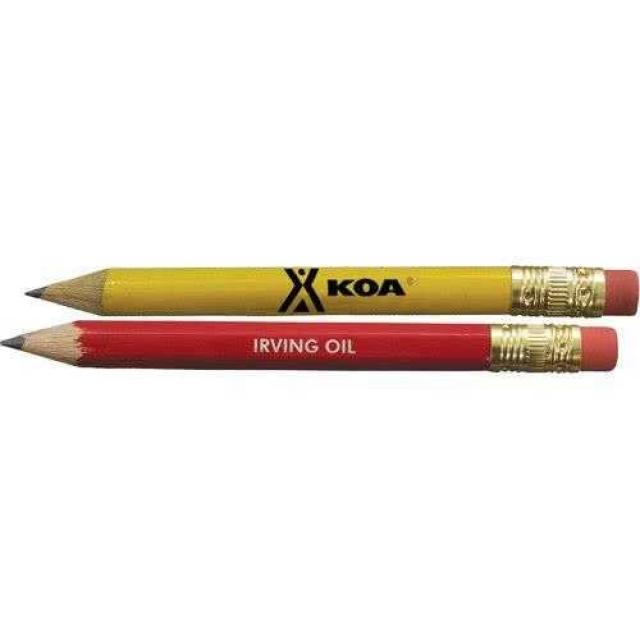pencil: (20, 260, 640, 318), (0, 318, 622, 374)
